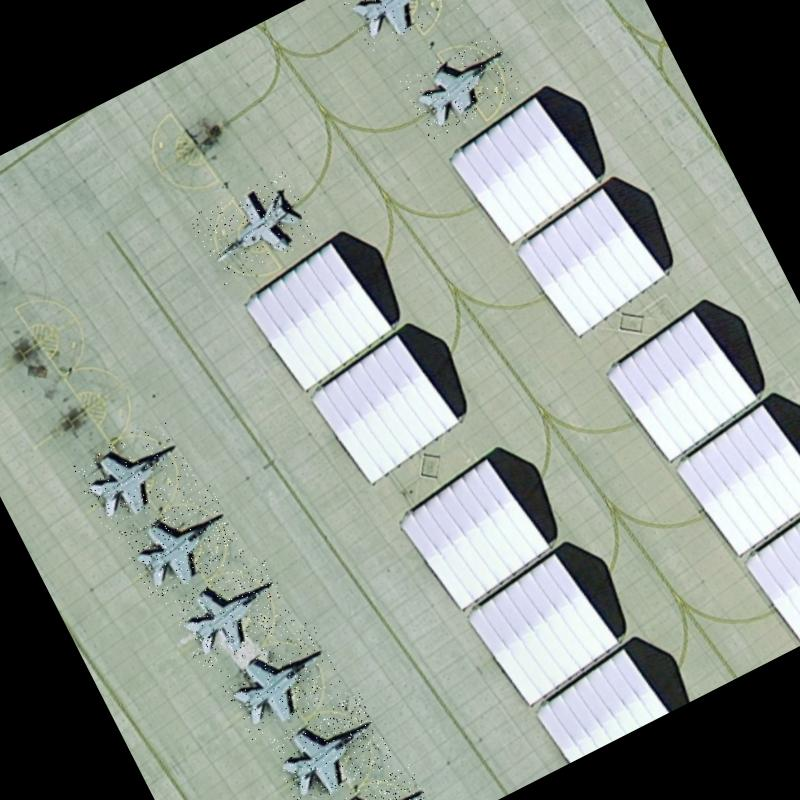A16: (214, 618, 348, 742), (164, 552, 298, 671), (70, 415, 200, 534), (186, 169, 318, 286), (116, 484, 245, 602), (265, 692, 396, 800), (399, 30, 525, 140), (333, 0, 463, 55), (317, 763, 441, 800)
